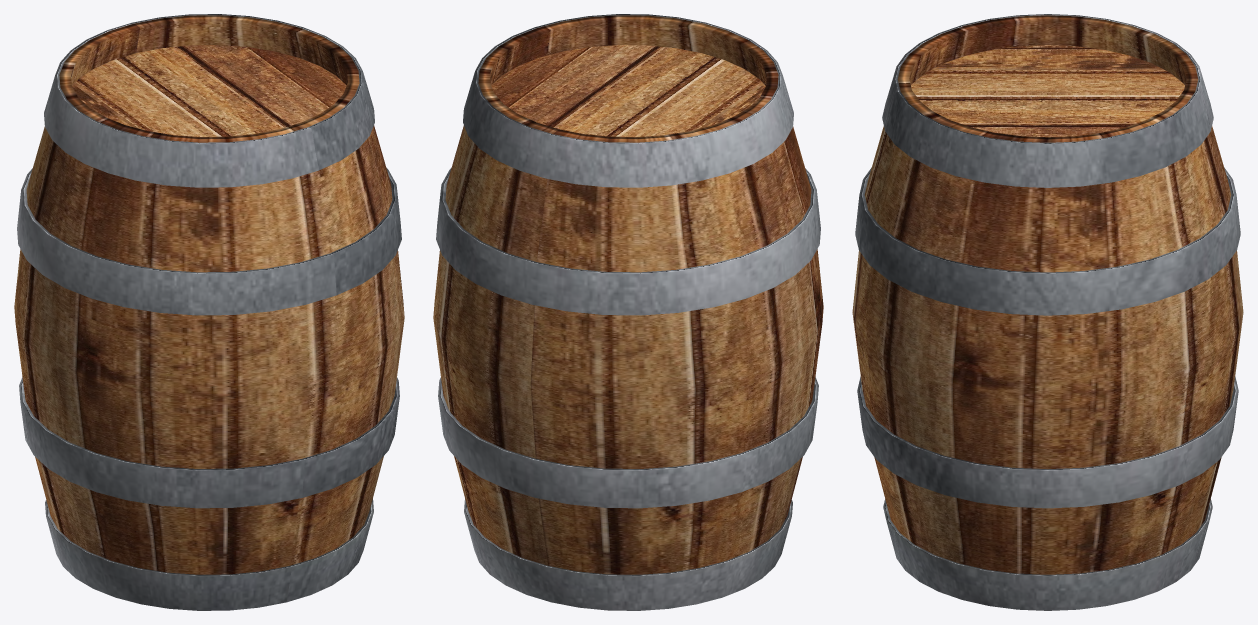
Rendered from barrel.fbx.
The picture shows the model from 3 angles, left to right: view 1: azimuth 30°, elevation 25°; view 2: azimuth 150°, elevation 25°; view 3: azimuth 270°, elevation 25°; orthographic projection.
Parts seen in each view (by area): view 1: Wooden_Barrel:Mesh; view 2: Wooden_Barrel:Mesh; view 3: Wooden_Barrel:Mesh.
Part boxes in pixels (<box>): Wooden_Barrel:Mesh: <box>14,14,404,610</box>; Wooden_Barrel:Mesh: <box>433,14,823,610</box>; Wooden_Barrel:Mesh: <box>852,14,1243,610</box>.
Size of the model in its own units: 4.43 by 5.86 by 4.43.
